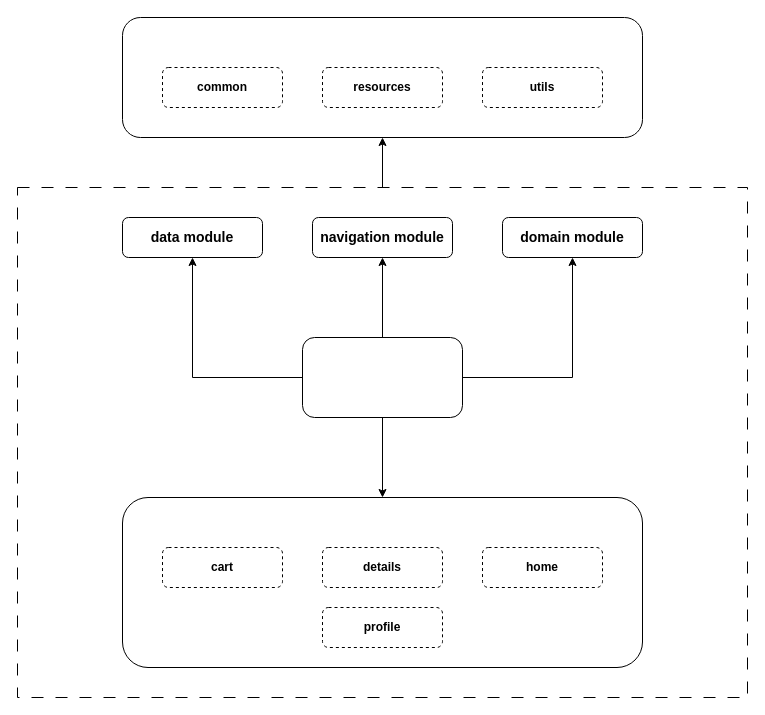
This 765x715 diagram has some shape labels left out. The shapes that lost their labels are listed below. From the top down, each one's box as (x1, y1, x2, y2) in pixels, then its label:
(122, 16, 642, 138): core module
(302, 336, 462, 418): app module
(122, 496, 642, 668): feature module
